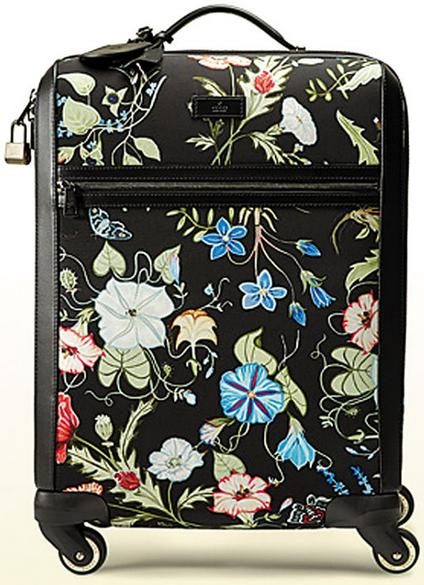suitcase: (0, 0, 421, 574)
